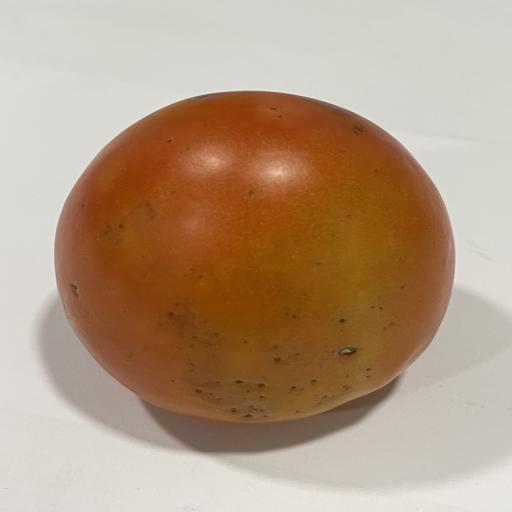ripe: (55, 91, 454, 425)
